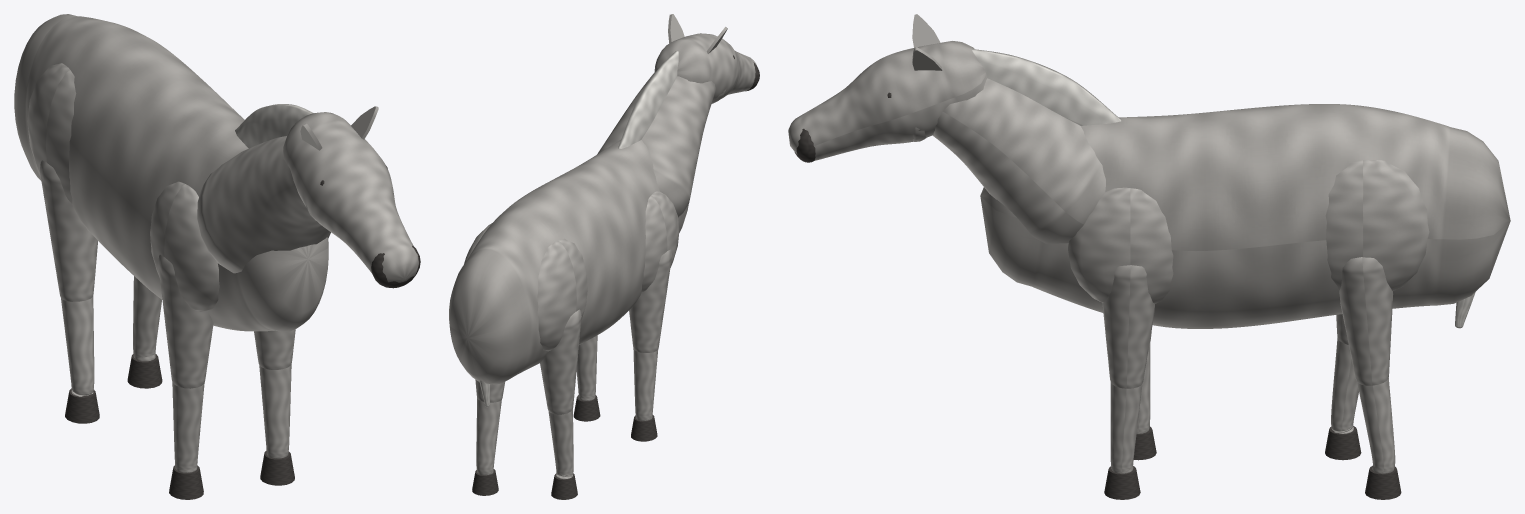
File: farm-and-working-animals-hd-draught-horse-grey-b3bc41e3__29181.glb
The picture shows the model from 3 angles, left to right: view 1: azimuth 30°, elevation 25°; view 2: azimuth 150°, elevation 25°; view 3: azimuth 270°, elevation 25°; orthographic projection. The views are drawn at different scales.
Visible parts, largest first — view 1: draught-horse-grey; view 2: draught-horse-grey; view 3: draught-horse-grey.
Boxes of the visible parts, x1=… form: draught-horse-grey: x1=14, y1=14, x2=420, y2=499; draught-horse-grey: x1=449, y1=14, x2=759, y2=499; draught-horse-grey: x1=788, y1=14, x2=1510, y2=499.
Bounding box in the file's own units: 0.711 × 2.19 × 3.24.
3 materials, 3 textured.
